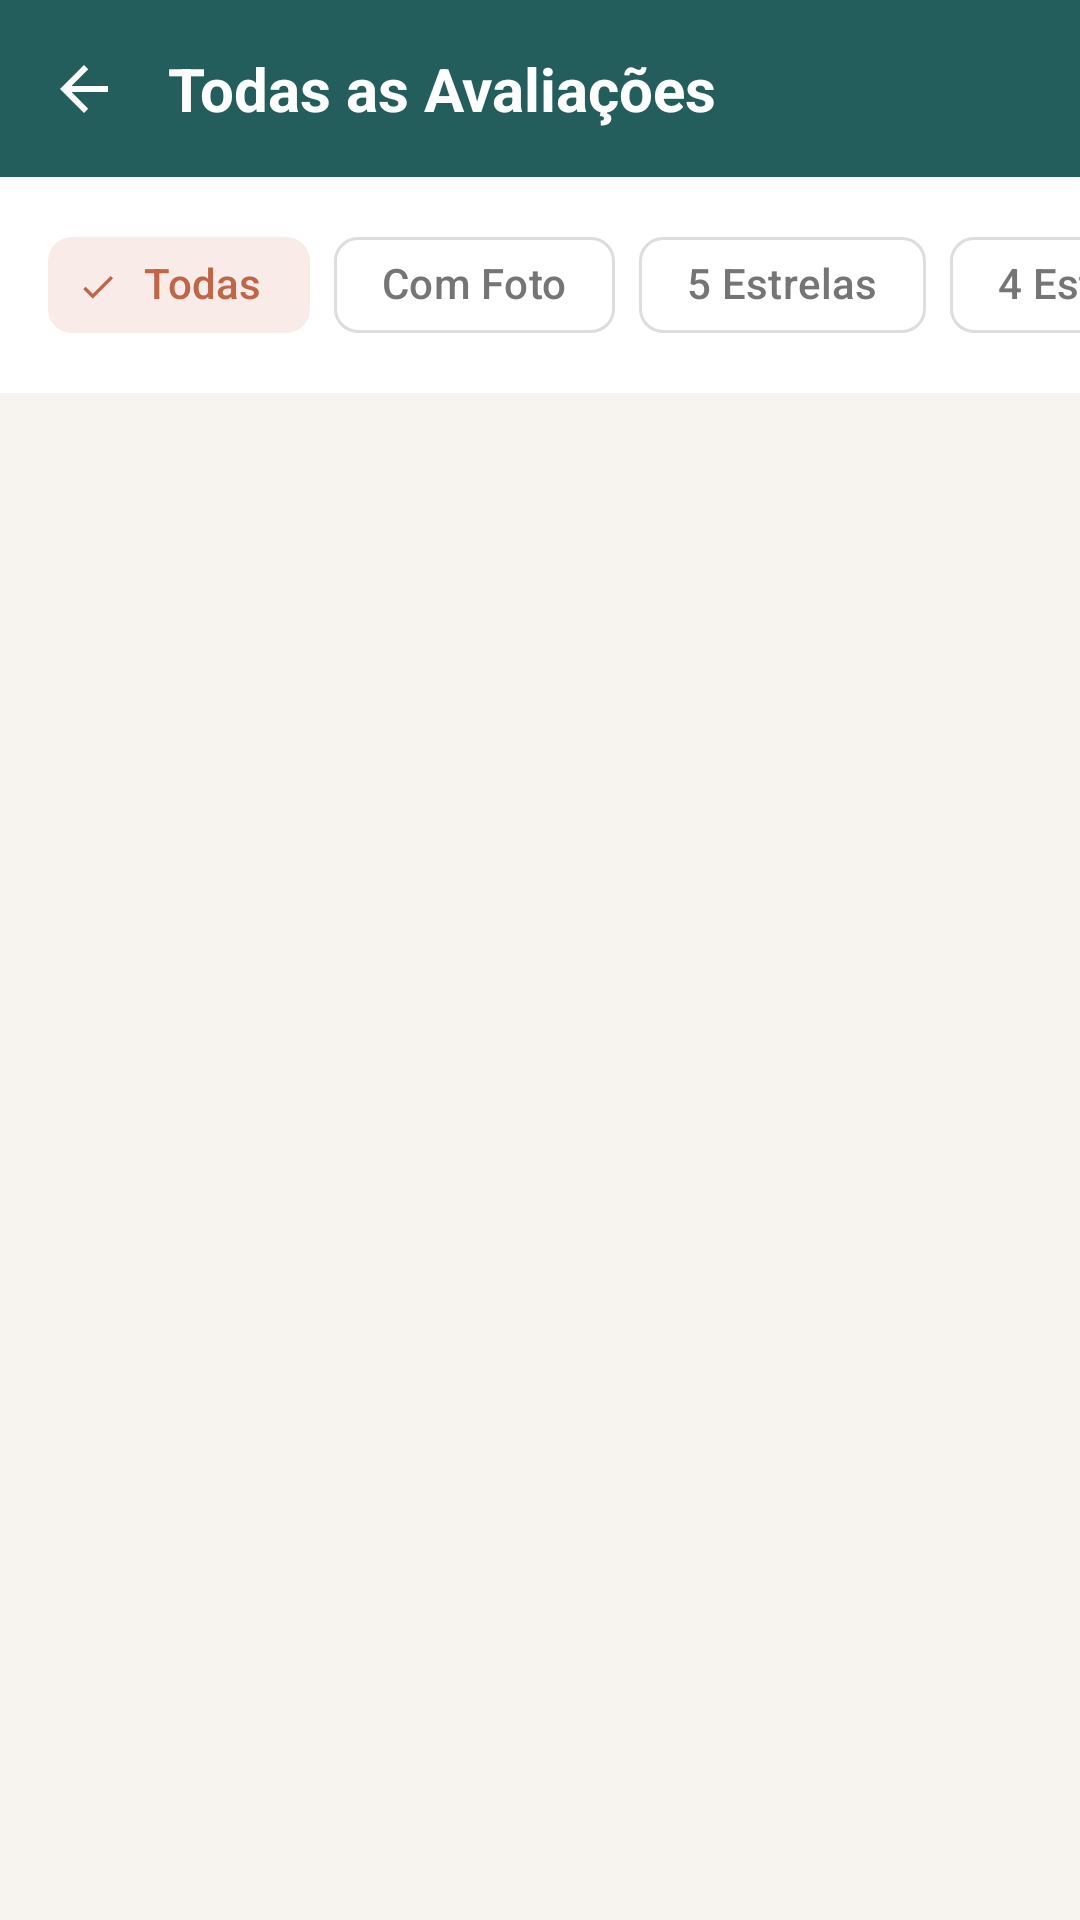

Locate icon controls on the screen. Image size 1080w x 1920h, boxes as (x1, y1, x2, y2).
Voltar: (60, 65, 108, 113)
